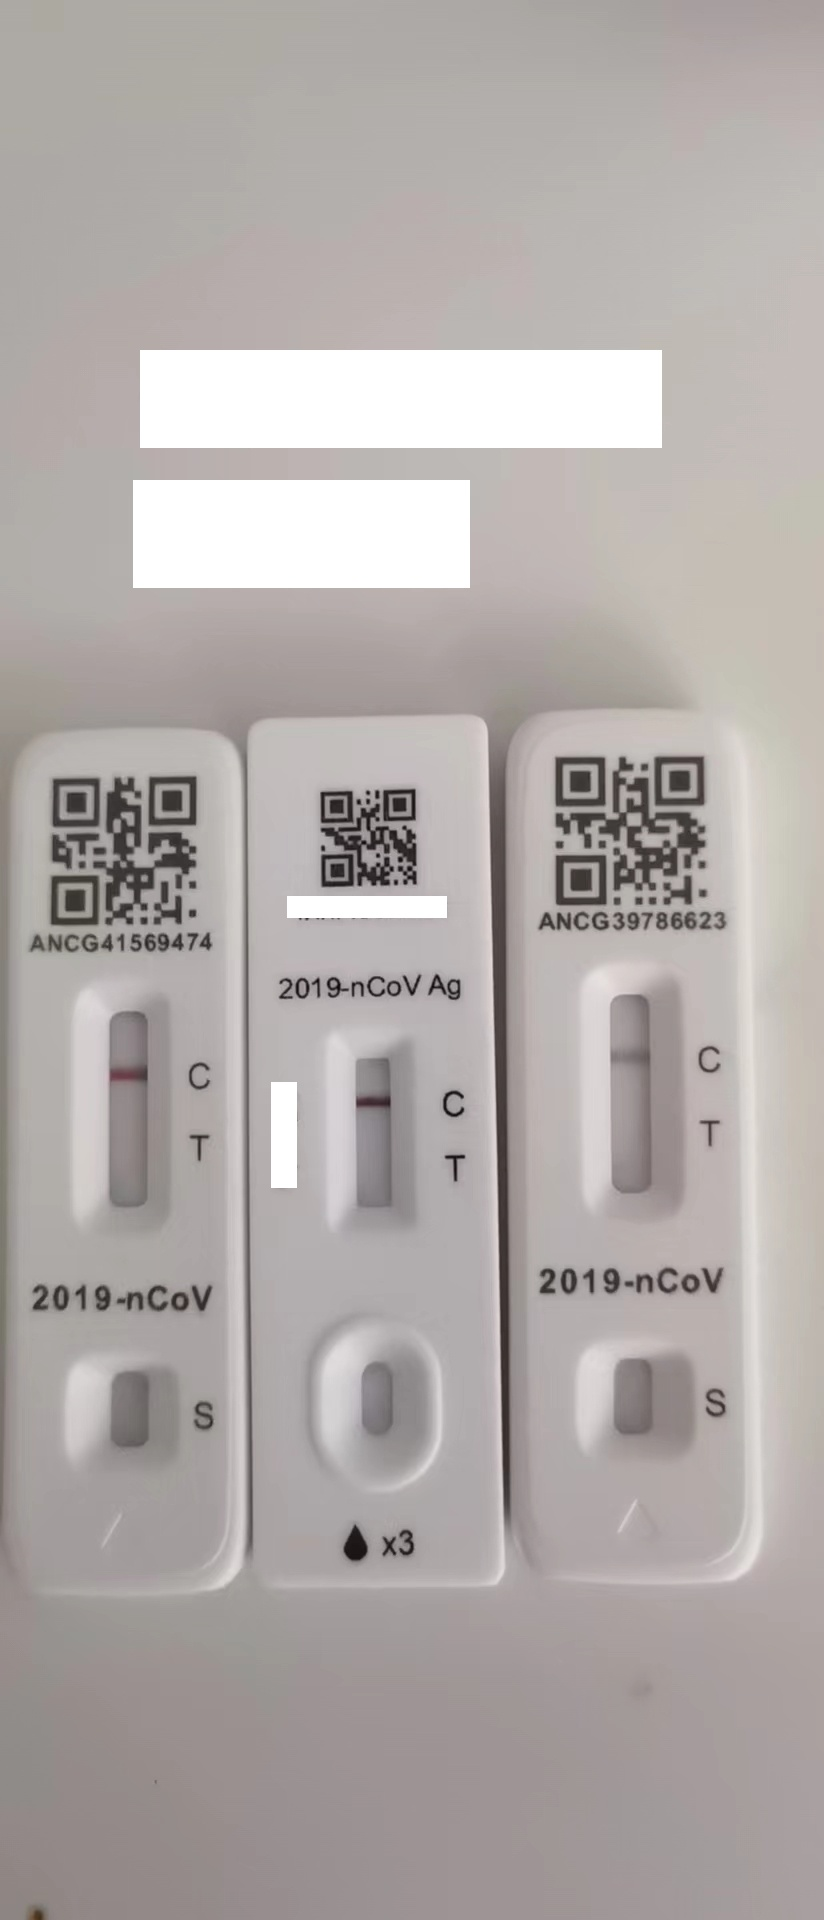negative: (584, 961, 684, 1233), (81, 989, 173, 1223), (332, 1024, 418, 1232)
